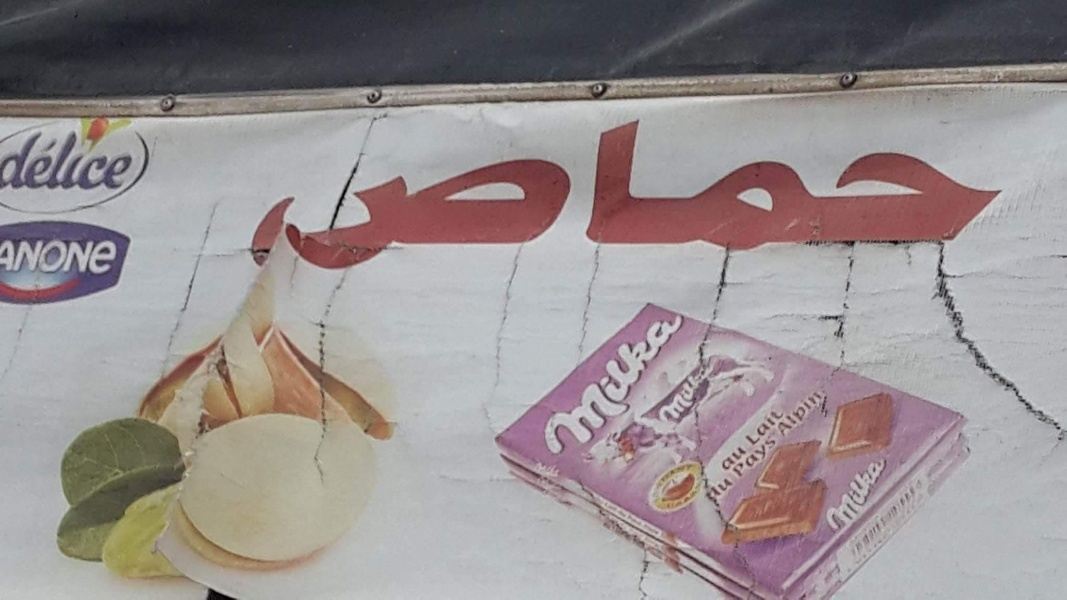text: (529, 301, 544, 473), (545, 301, 560, 473), (561, 301, 576, 473), (577, 301, 592, 473), (593, 301, 608, 473), (609, 301, 624, 473), (625, 301, 640, 473), (641, 301, 656, 473), (657, 301, 672, 473), (673, 301, 688, 473), (689, 301, 704, 473), (273, 105, 288, 275), (289, 105, 304, 275), (305, 105, 320, 275), (321, 105, 336, 275), (337, 105, 352, 275), (353, 105, 368, 275), (369, 105, 384, 275), (385, 105, 400, 275), (401, 105, 416, 275), (417, 105, 432, 275), (433, 105, 448, 275), (449, 105, 464, 275), (465, 105, 480, 275), (481, 105, 496, 275), (497, 105, 512, 275), (513, 105, 528, 275), (529, 105, 544, 275), (545, 105, 560, 275), (561, 105, 576, 275), (577, 105, 592, 275), (593, 105, 608, 275), (609, 105, 624, 275), (625, 105, 640, 275), (641, 105, 656, 275), (657, 105, 672, 275), (673, 105, 688, 275), (689, 105, 704, 275), (705, 105, 720, 275), (721, 105, 736, 275), (737, 105, 752, 275), (753, 105, 768, 275), (769, 105, 784, 275), (785, 105, 800, 275), (801, 105, 816, 275), (817, 105, 832, 275), (833, 105, 848, 275), (849, 105, 864, 275), (865, 105, 880, 275), (881, 105, 896, 275), (897, 105, 912, 275), (913, 105, 928, 275), (929, 105, 944, 275), (945, 105, 960, 275), (961, 105, 976, 275), (977, 105, 992, 275), (993, 105, 1007, 275), (833, 450, 848, 539), (849, 450, 864, 539), (865, 450, 880, 539), (881, 450, 896, 539), (657, 358, 672, 430), (673, 358, 688, 430), (689, 358, 704, 430), (705, 358, 720, 430), (1, 130, 16, 193), (17, 130, 32, 193), (33, 130, 48, 193), (49, 130, 64, 193), (65, 130, 80, 193), (81, 130, 96, 193), (97, 130, 112, 193), (113, 130, 128, 193), (822, 450, 832, 539), (785, 385, 800, 440), (801, 385, 816, 440), (737, 432, 752, 479), (753, 432, 768, 479), (641, 456, 656, 503), (657, 456, 672, 503), (673, 456, 688, 503), (129, 130, 139, 193), (1, 237, 16, 278), (17, 237, 32, 278), (33, 237, 48, 278), (49, 237, 64, 278), (65, 237, 80, 278), (81, 237, 96, 278), (97, 237, 112, 278), (753, 407, 768, 447), (769, 407, 784, 447), (774, 385, 784, 440), (673, 479, 688, 515), (689, 479, 704, 515), (769, 432, 780, 479), (705, 473, 720, 506), (721, 473, 736, 506), (721, 444, 736, 472), (737, 444, 752, 472), (545, 456, 560, 483), (817, 385, 824, 440), (113, 237, 122, 278), (721, 358, 726, 430), (743, 407, 752, 447), (897, 450, 901, 539), (730, 432, 736, 479), (666, 479, 672, 515), (537, 456, 544, 483), (636, 456, 640, 503), (705, 301, 706, 473), (654, 358, 656, 430), (689, 456, 692, 503), (561, 456, 565, 483), (717, 444, 720, 472), (785, 407, 787, 447), (702, 473, 704, 506)
